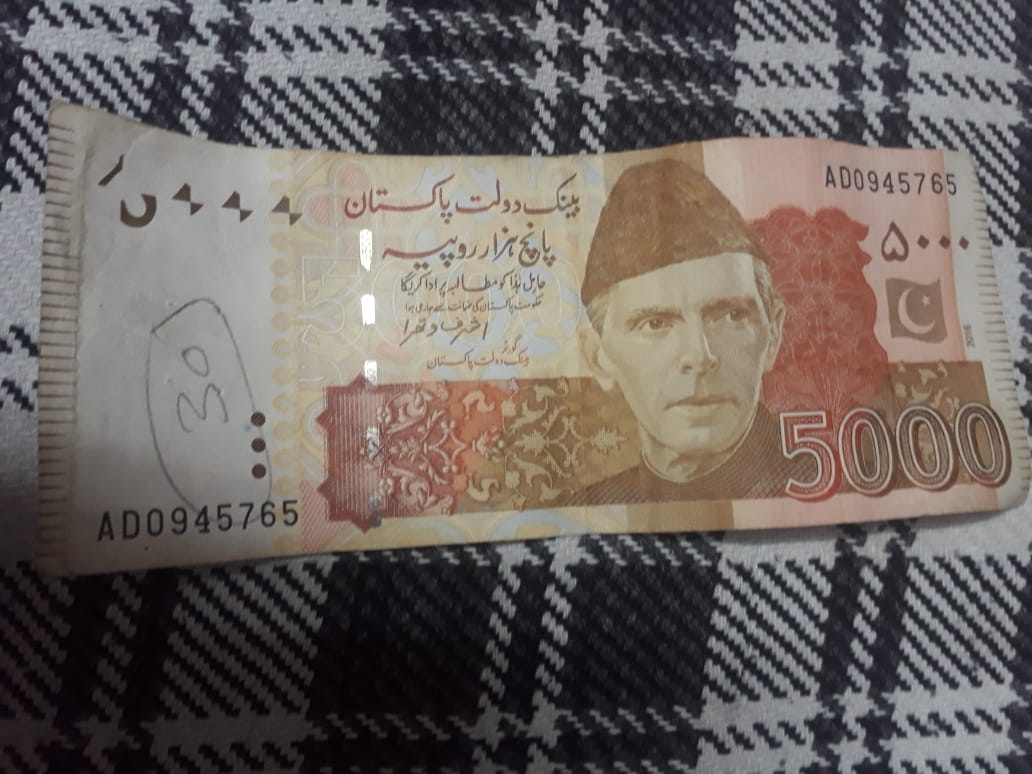5000 rupee: (32, 100, 1015, 548)
